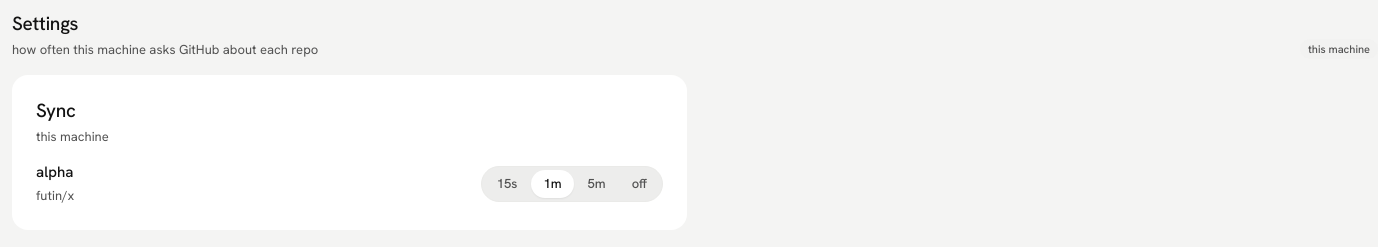
Scenario: GitHub › Settings: the sync card › keeps the refusal through an unrelated read, and clears it — back to the repo — on the next pick for that repo
Expected: the text "alpha" is shown, [36,162,73,182]
Click the button "off" at (639, 184), box [620,170,659,198]
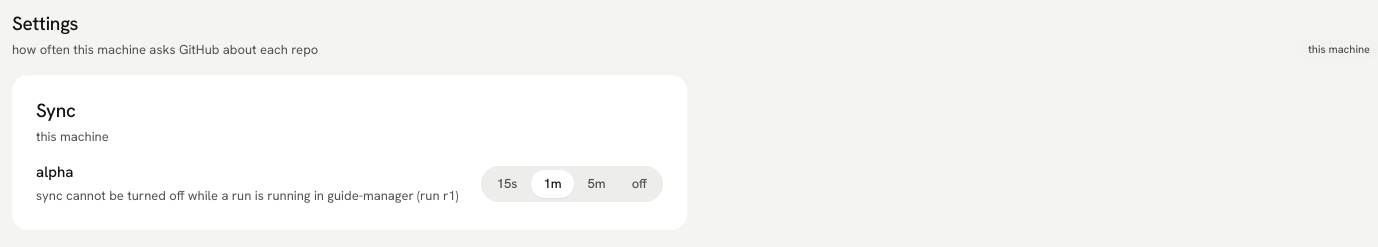
Now the text "sync cannot be turned off" is shown, box [36,187,458,204]
Click the button "5m" at (597, 184), box [576,170,618,198]
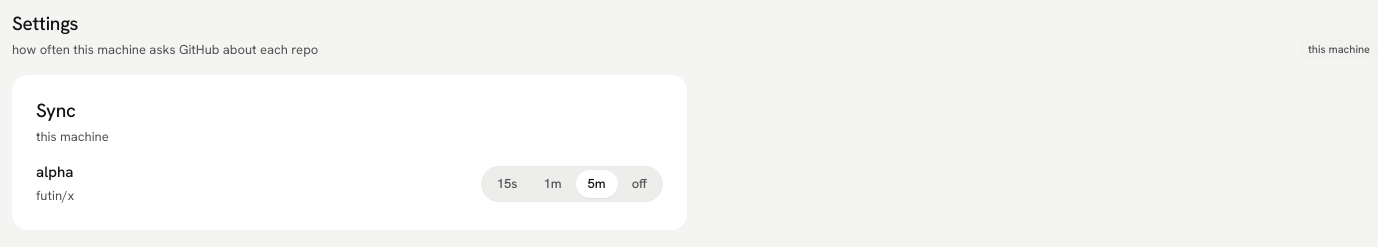
Now the text "sync cannot be turned off" is gone
Now the text "sync cannot be turned off" reads "futin/x", box [36,187,74,204]
